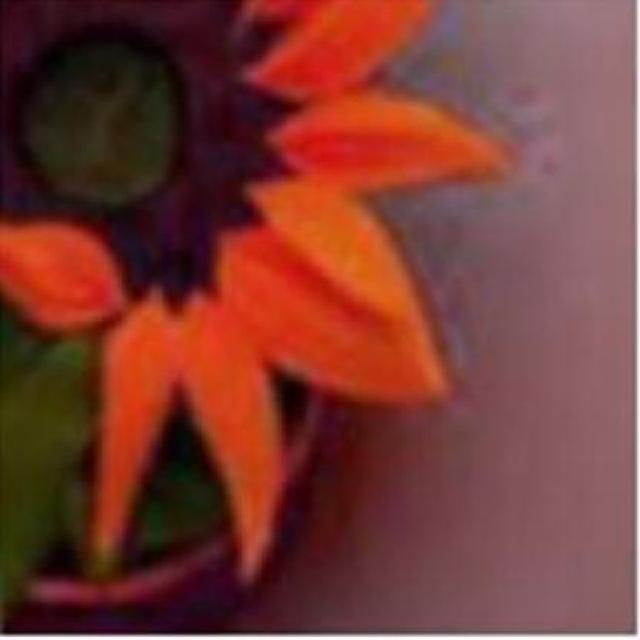sunflower: (0, 0, 508, 580)
